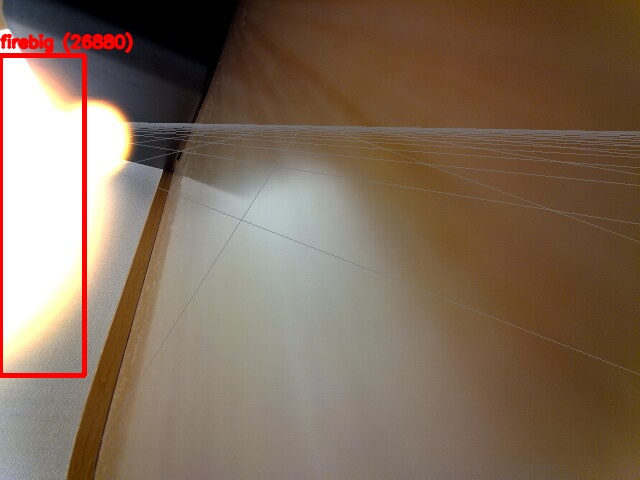firebig: (0, 55, 84, 375)
